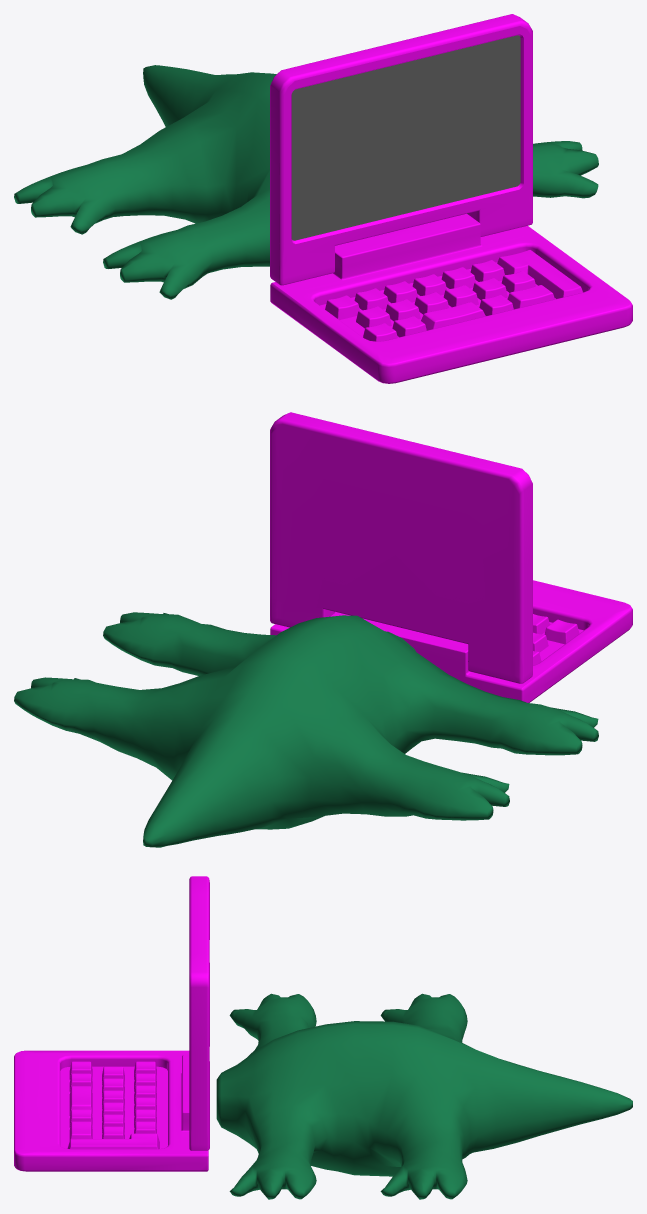
File: PC_main_model.fbx
3 renders of one model, top to bottom at view 1: azimuth 30°, elevation 25°; view 2: azimuth 150°, elevation 25°; view 3: azimuth 270°, elevation 25°, orthographic. The views are drawn at different scales.
Parts seen in each view (by area): view 1: PC, wani, screen; view 2: wani, PC; view 3: wani, PC.
Part boxes in pixels (bbox=[...]): PC: bbox=[270, 14, 632, 383]; wani: bbox=[14, 65, 598, 299]; screen: bbox=[291, 35, 520, 240]; wani: bbox=[14, 612, 598, 847]; PC: bbox=[270, 412, 632, 702]; wani: bbox=[216, 993, 632, 1199]; PC: bbox=[14, 876, 209, 1171].
Bounding box in the file's own units: 62.76 × 36.81 × 83.78.
